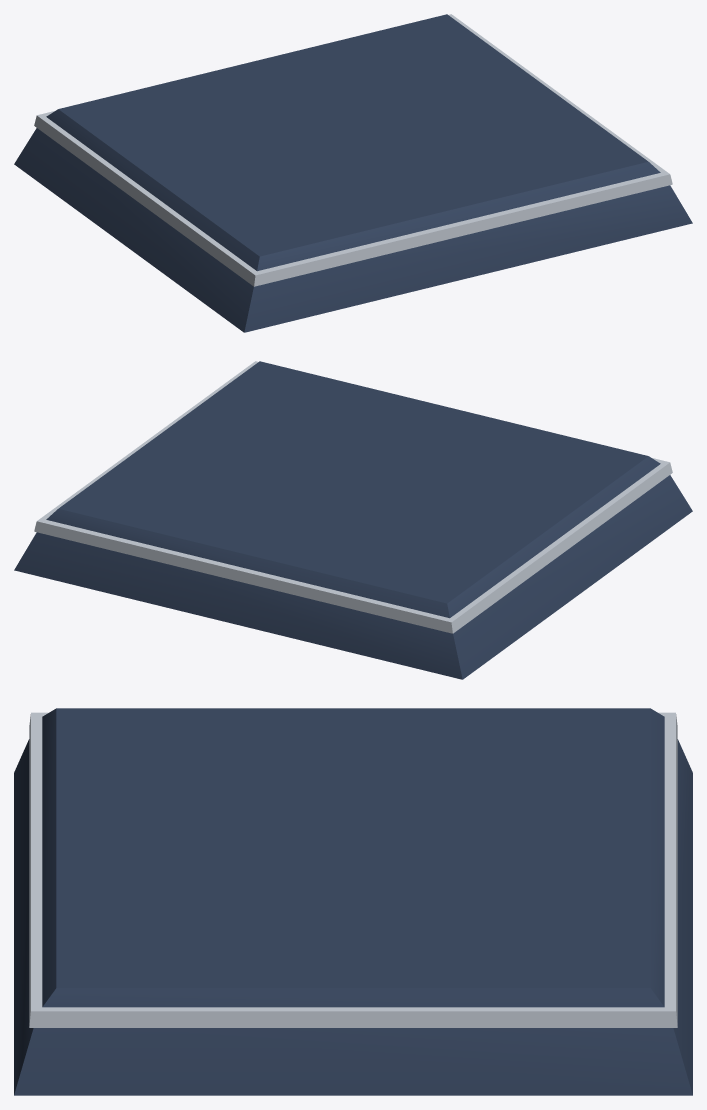
The model's file is Pedestal.glb.
The picture shows the model from 3 angles, top to bottom: view 1: azimuth 30°, elevation 25°; view 2: azimuth 150°, elevation 25°; view 3: azimuth 270°, elevation 25°; orthographic projection. The views are drawn at different scales.
Visible parts, largest first — view 1: stone_base, carved_rim; view 2: stone_base, carved_rim; view 3: stone_base, carved_rim.
Part boxes in pixels (x1=…): stone_base: x1=14, y1=14, x2=692, y2=332; carved_rim: x1=34, y1=14, x2=672, y2=286; stone_base: x1=14, y1=361, x2=692, y2=679; carved_rim: x1=34, y1=361, x2=672, y2=633; stone_base: x1=14, y1=708, x2=692, y2=1095; carved_rim: x1=29, y1=712, x2=677, y2=1027.
Size of the model in its own units: 4.5 by 0.56 by 4.
